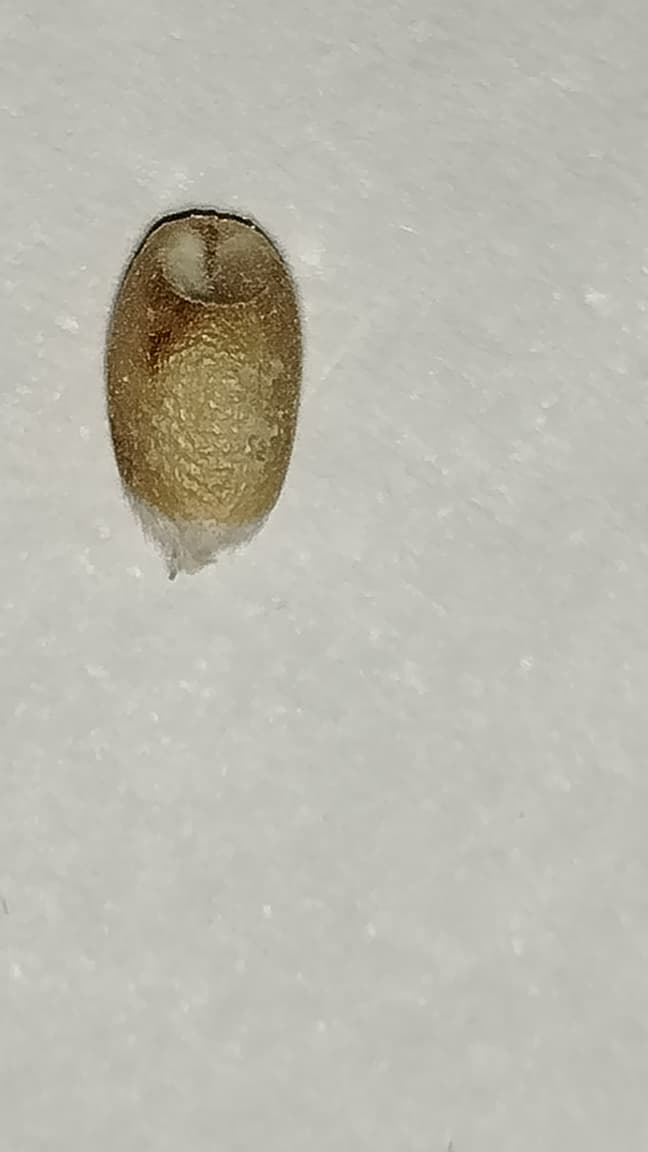damage: (104, 211, 305, 546)
insectdamage: (131, 205, 280, 318)
staindamage: (128, 275, 213, 380)
